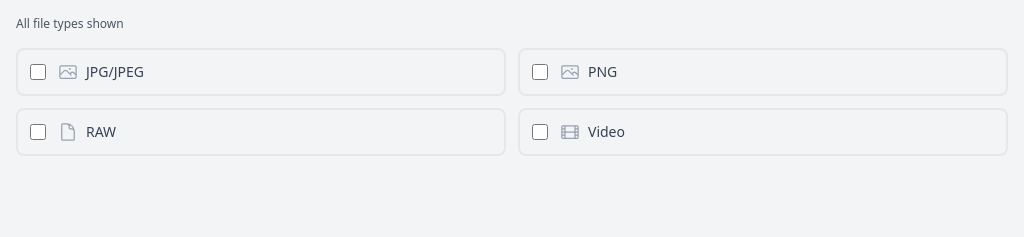
FileTypeFilter › Rendering › shows count when file types selected
Step 1. Click the checkbox named "select file type jpg" → [38, 72], box [30,64,46,80]
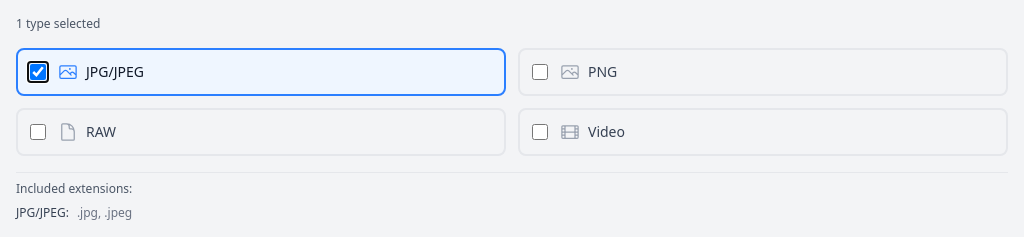
Expected: the text "1 type selected" is shown, [16,15,100,32]
